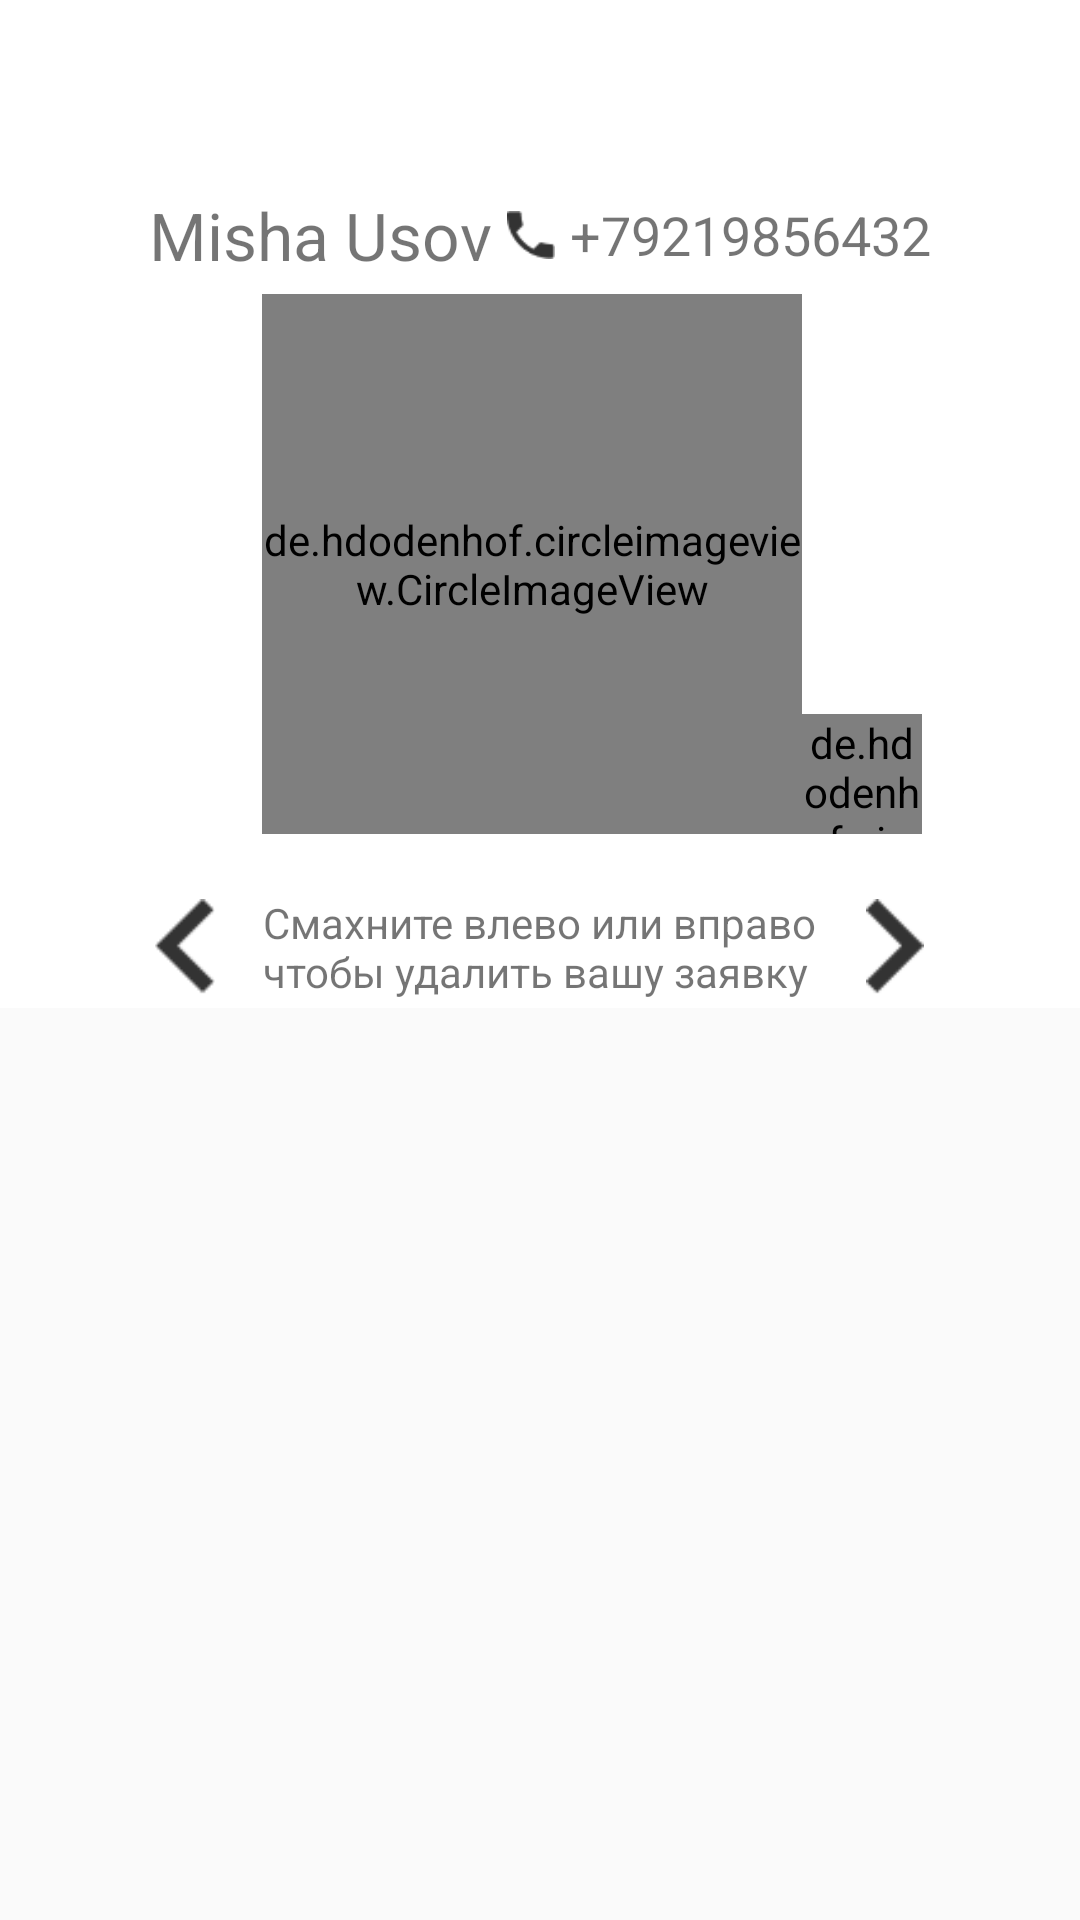

Icon bounding boxes for this 1080*1920 phone screenshot, format (x1, y1, x2, y2):
left arrow: (155, 899, 214, 993)
right arrow: (866, 899, 924, 993)
telephone: (507, 211, 555, 259)
